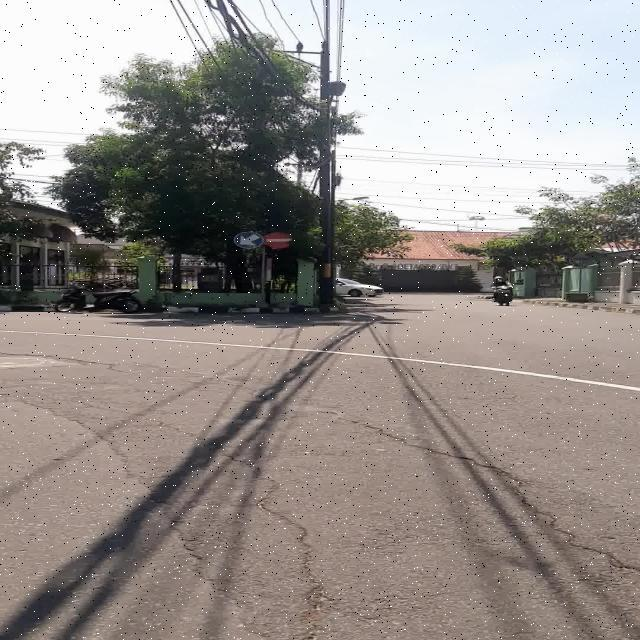Lajur Kiri: (234, 232, 264, 249)
